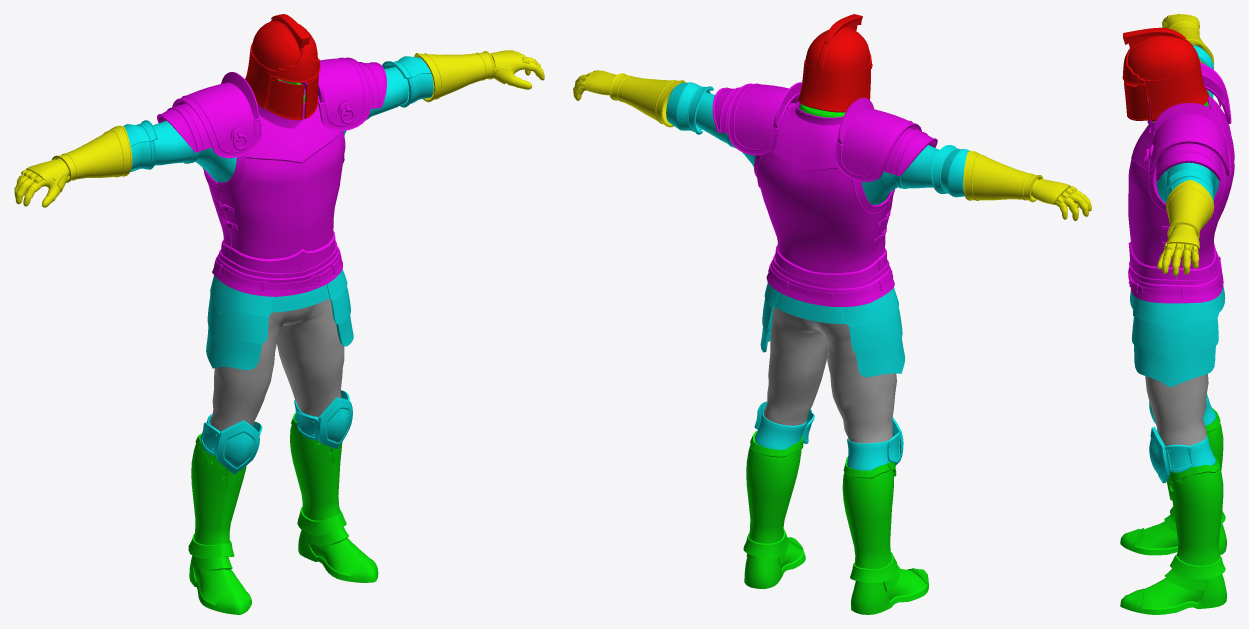
Rendered from Armor8.fbx.
3 renders of one model, left to right at view 1: azimuth 30°, elevation 25°; view 2: azimuth 150°, elevation 25°; view 3: azimuth 270°, elevation 25°, orthographic. The views are drawn at different scales.
Parts seen in each view (by area): view 1: CuriassFront, Trousers, PaladinBootR, PaladinBootL, Faulds, PaladinHelmet, PauldronR, PaladinGauntletR, PauldronL, PaladinGauntletL, Waistwrap, PoleynR (+5 smaller); view 2: CuriassBack, Trousers, PaladinBootR, PaladinBootL, Faulds, PauldronR, PaladinHelmet, PauldronL, PaladinGauntletR, Waistwrap, PaladinGauntletL, ArmpitR (+5 smaller); view 3: PaladinBootL, Faulds, PaladinHelmet, PauldronL, CuriassFront, Trousers, PaladinGauntletL, PaladinBootR, Waistwrap, CuriassBack, PoleynL, PaladinGauntletR (+6 smaller).
Part boxes in pixels (<box>): CuriassFront: <box>217,82,345,273</box>; Trousers: <box>209,299,344,431</box>; PaladinBootR: <box>188,433,251,614</box>; PaladinBootL: <box>290,413,378,582</box>; Faulds: <box>206,269,353,369</box>; PaladinHelmet: <box>245,14,320,120</box>; PauldronR: <box>157,72,261,158</box>; PaladinGauntletR: <box>14,125,132,207</box>; PauldronL: <box>317,57,386,130</box>; PaladinGauntletL: <box>414,50,544,102</box>; Waistwrap: <box>212,240,342,296</box>; PoleynR: <box>200,420,262,474</box>; CuriassBack: <box>754,101,888,284</box>; Trousers: <box>764,307,896,443</box>; PaladinBootR: <box>842,457,928,614</box>; PaladinBootL: <box>743,430,805,588</box>; Faulds: <box>760,282,905,377</box>; PauldronR: <box>835,98,937,181</box>; PaladinHelmet: <box>798,14,872,112</box>; PauldronL: <box>712,82,801,155</box>; PaladinGauntletR: <box>963,151,1091,220</box>; Waistwrap: <box>766,253,894,306</box>; PaladinGauntletL: <box>573,70,685,127</box>; ArmpitR: <box>862,145,939,205</box>; PaladinBootL: <box>1120,457,1226,614</box>; Faulds: <box>1130,286,1225,387</box>; PaladinHelmet: <box>1122,27,1208,121</box>; PauldronL: <box>1143,103,1231,180</box>; CuriassFront: <box>1128,120,1176,279</box>; Trousers: <box>1145,276,1208,446</box>; PaladinGauntletL: <box>1157,180,1214,275</box>; PaladinBootR: <box>1120,408,1226,555</box>; Waistwrap: <box>1128,251,1223,303</box>; CuriassBack: <box>1177,95,1234,280</box>; PoleynL: <box>1149,426,1194,483</box>; PaladinGauntletR: <box>1162,14,1214,64</box>.
Size of the model in its own units: 184 by 190 by 36.05.
